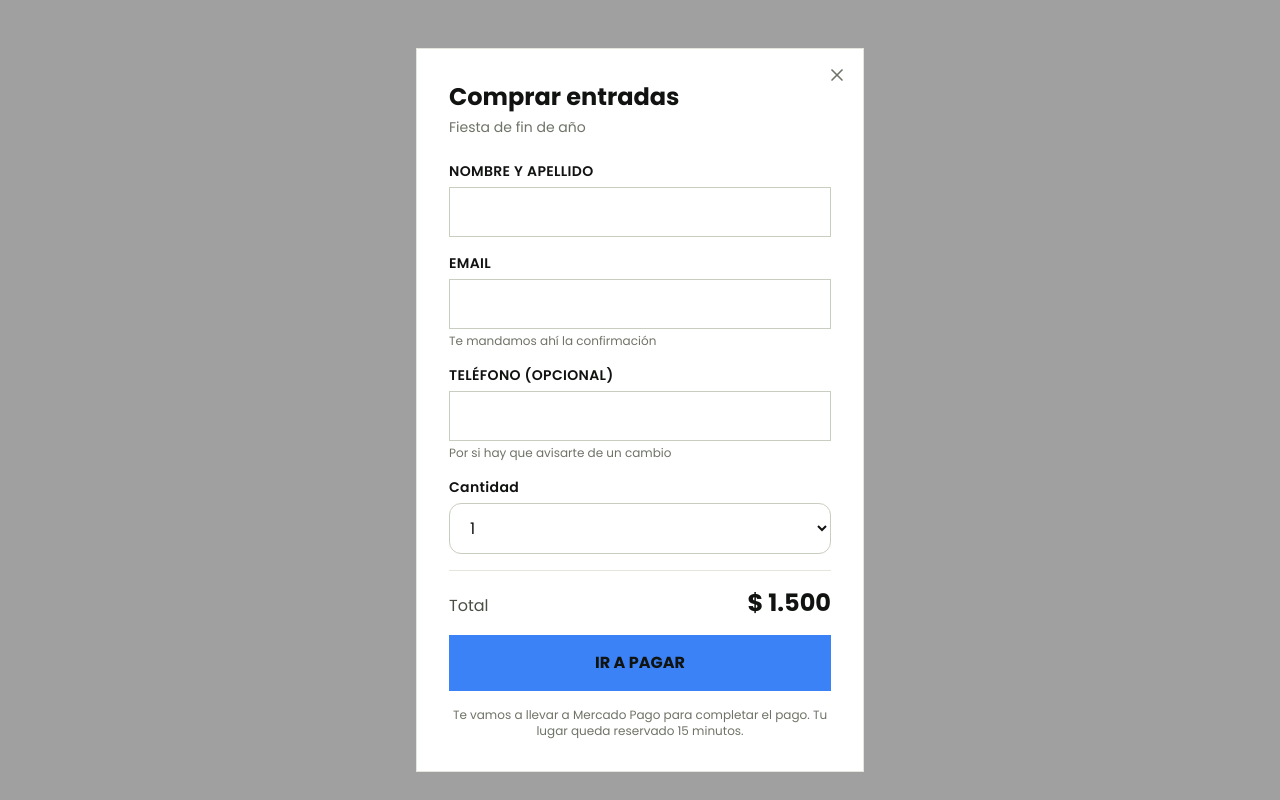
Test: ComprarEntradas › cuando algo sale mal › no redirige si el servidor rechazó la compra
The width and height of the screenshot is (1280, 800).
Type "Ana Gómez" into the field labelled "NOMBRE Y APELLIDO" at (640, 212), box [449,187,831,237]
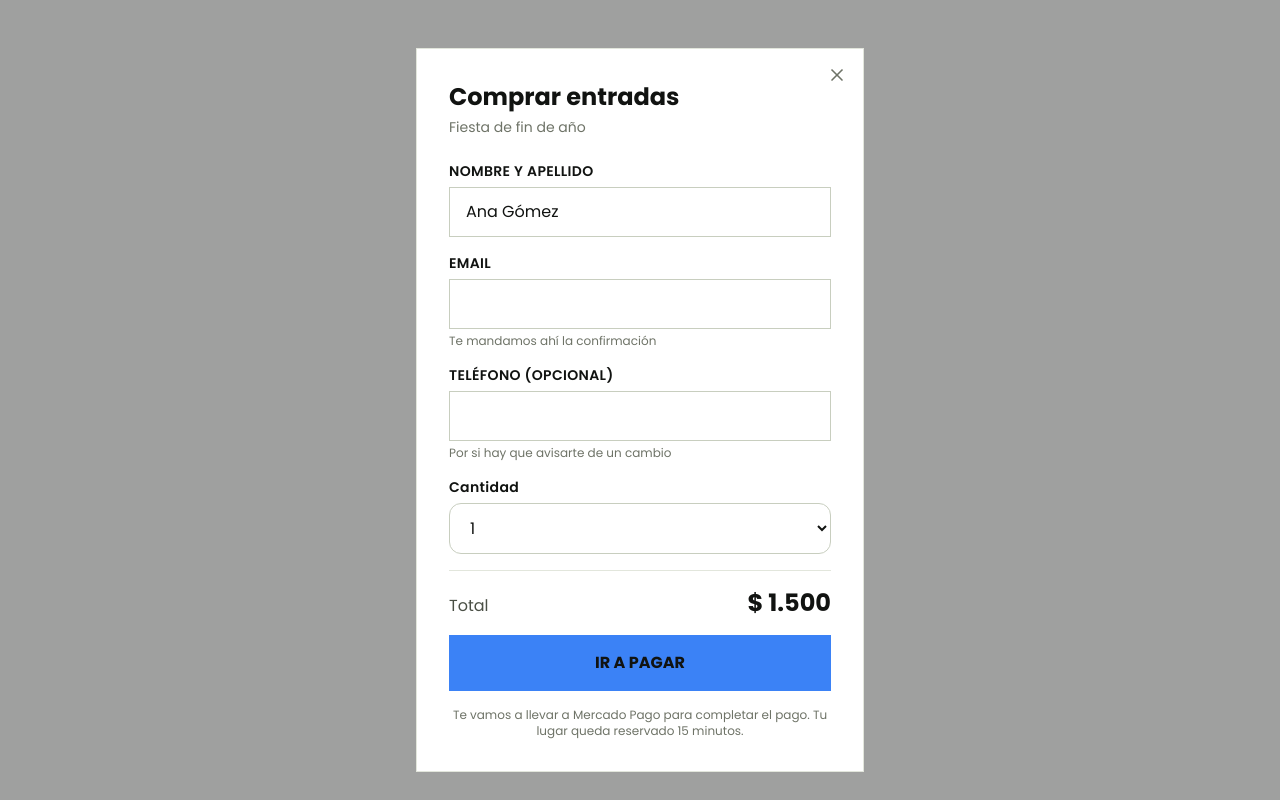
Type "ana@example.com" into the field labelled "EMAIL" at (640, 304), box [449,279,831,329]
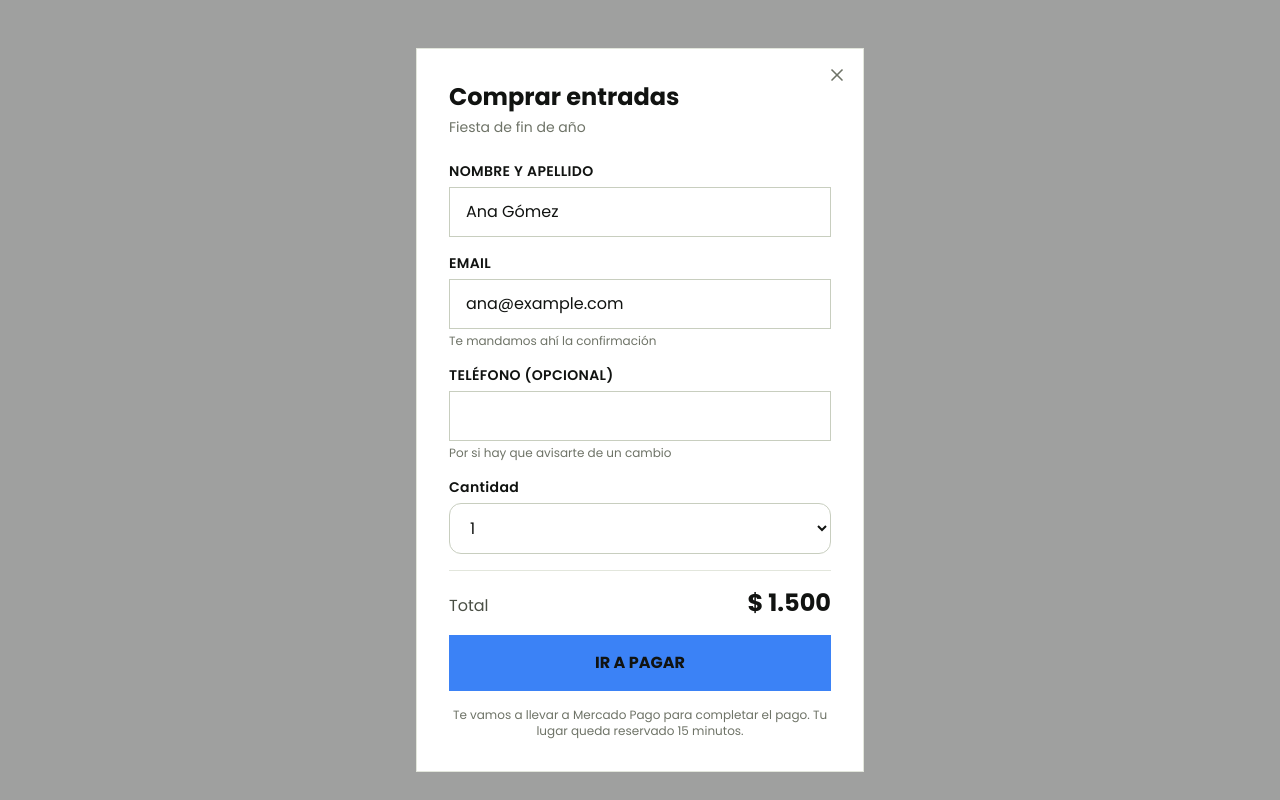
Type "1122334455" into the field labelled "TELÉFONO (OPCIONAL)" at (640, 416), box [449,391,831,441]
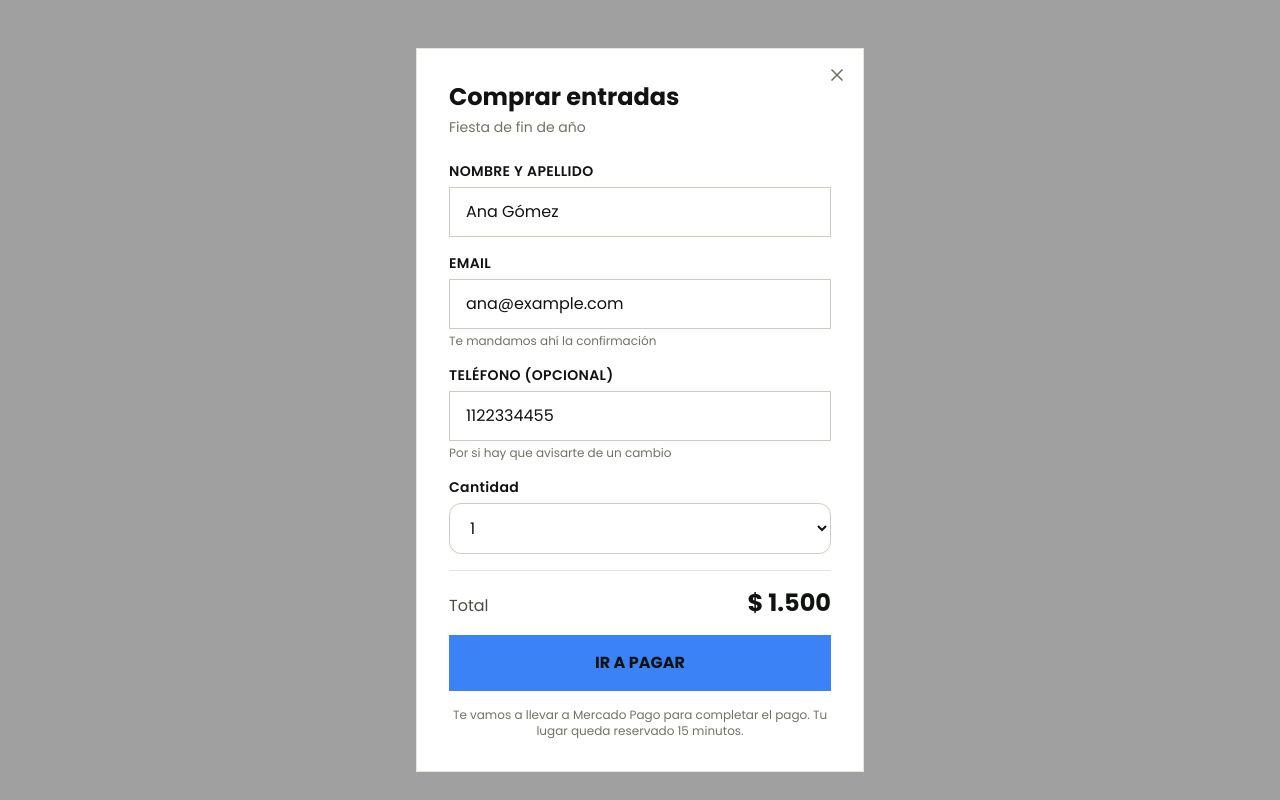
Click the button "IR A PAGAR" at (640, 663), box [449,635,831,691]
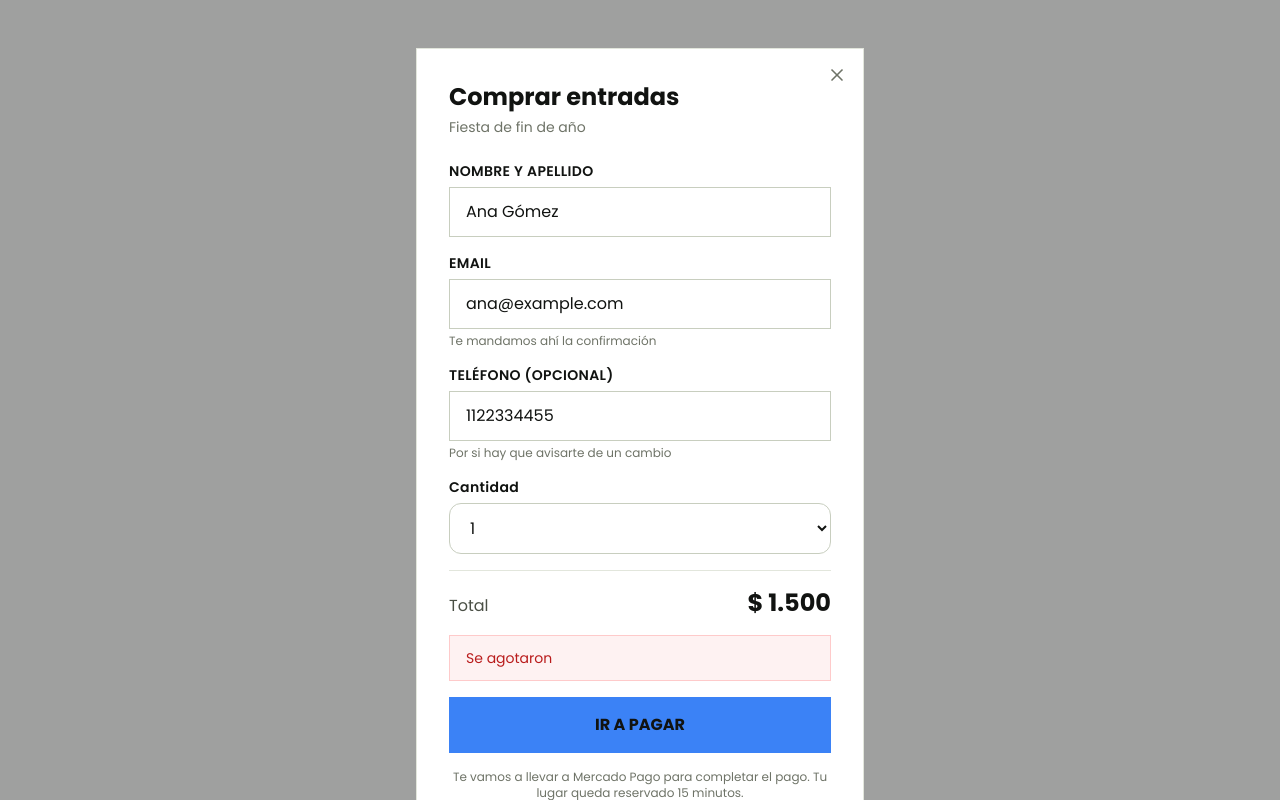
Result: the text "Se agotaron" is shown at [449,635,831,681]
